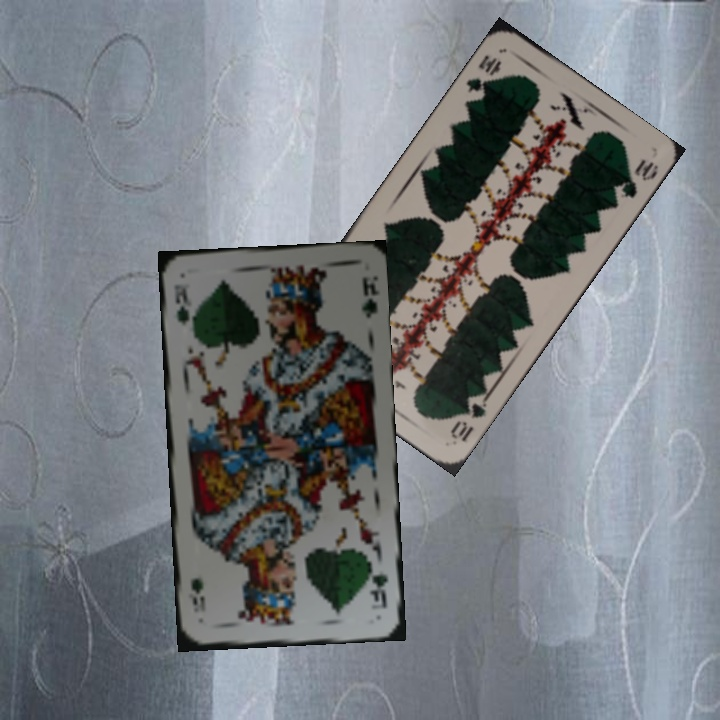G10: (446, 390, 490, 445), (461, 51, 505, 96)
GK: (169, 280, 196, 334), (366, 557, 391, 611)
